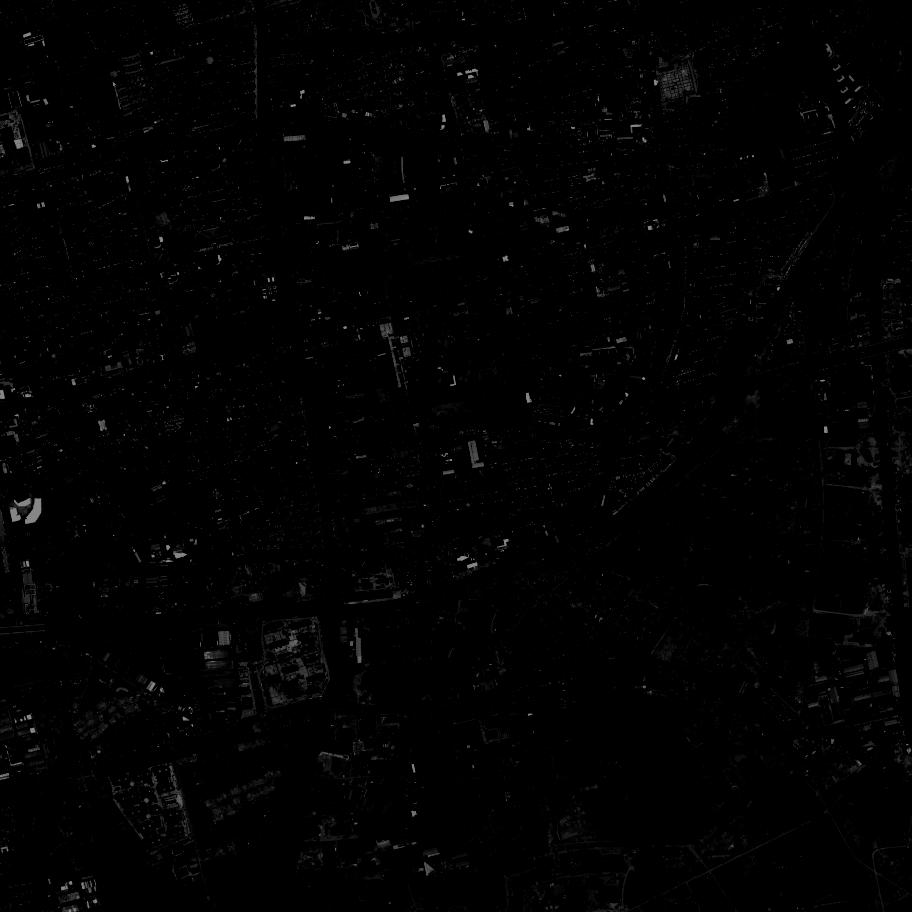ship: (406, 538, 417, 549), (877, 384, 884, 396), (421, 533, 430, 541), (876, 377, 882, 388), (395, 545, 407, 550), (420, 537, 431, 542), (881, 382, 884, 393), (881, 369, 883, 380)
storage-tank: (510, 791, 517, 798), (492, 796, 498, 801), (484, 785, 490, 790), (505, 793, 510, 798), (487, 797, 492, 802), (485, 792, 489, 796), (492, 790, 495, 795), (491, 785, 494, 789)
